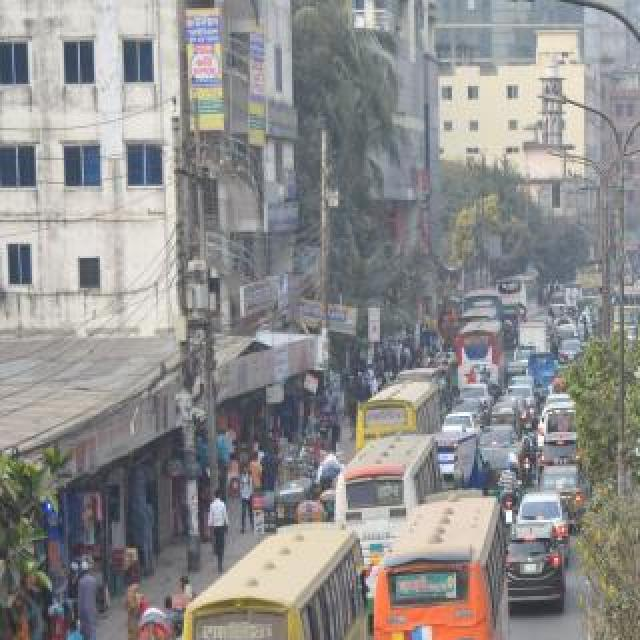bus: (176, 520, 372, 640), (370, 486, 510, 640), (329, 430, 435, 558), (359, 377, 437, 439), (456, 321, 506, 389), (498, 275, 540, 313), (463, 288, 503, 312), (458, 310, 500, 328), (577, 266, 599, 288)
car: (506, 523, 564, 609), (538, 461, 584, 533), (514, 490, 568, 550), (542, 433, 594, 483), (450, 393, 486, 427), (441, 410, 481, 438), (459, 379, 491, 411), (506, 384, 536, 416), (476, 427, 516, 449), (559, 339, 583, 365), (634, 418, 640, 478)
motorbike: (497, 461, 521, 529), (517, 421, 539, 491)
van: (433, 431, 483, 493), (542, 398, 580, 444), (527, 350, 557, 398), (516, 318, 554, 354)
